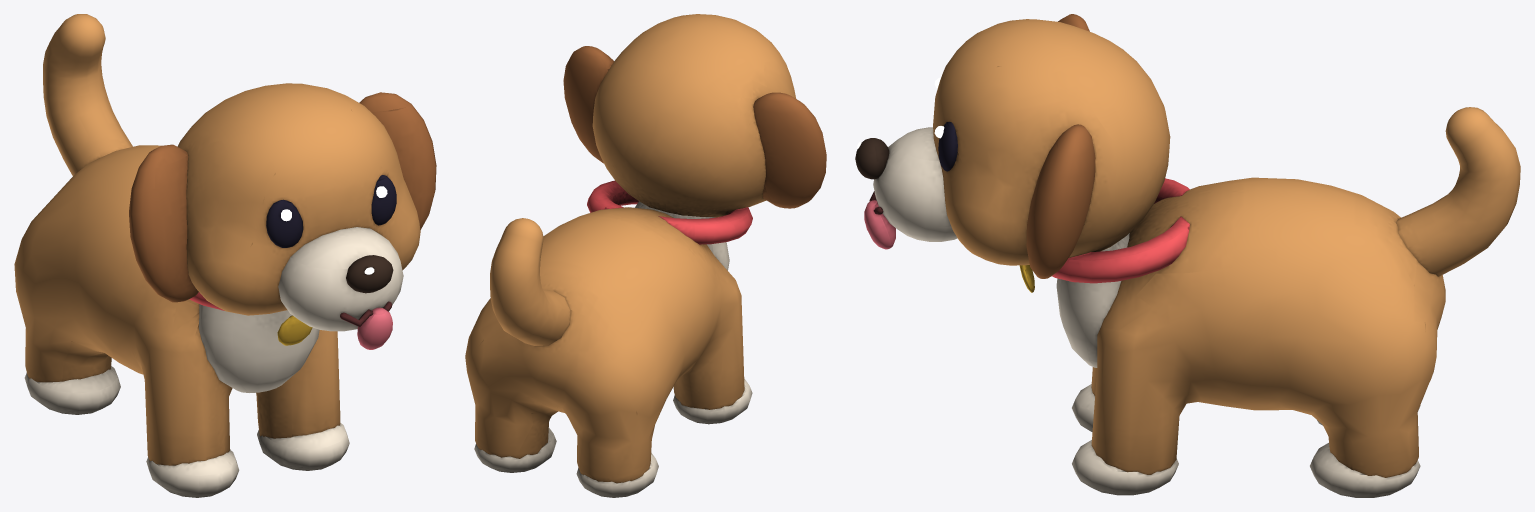
Rendered from pet_dog.glb.
The picture shows the model from 3 angles, left to right: view 1: azimuth 30°, elevation 25°; view 2: azimuth 150°, elevation 25°; view 3: azimuth 270°, elevation 25°; orthographic projection. The views are drawn at different scales.
Visible parts, largest first — view 1: Head, pet_dog, Tail; view 2: pet_dog, Head, Tail; view 3: pet_dog, Head, Tail.
Part boxes in pixels (box(x1,y1,x2,y2)): Head: box(129, 83, 436, 349); pet_dog: box(14, 145, 349, 497); Tail: box(43, 14, 132, 175); pet_dog: box(465, 180, 752, 497); Head: box(563, 14, 826, 217); Tail: box(490, 218, 570, 345); pet_dog: box(1019, 177, 1445, 497); Head: box(855, 14, 1170, 278); Tail: box(1396, 107, 1520, 276).
Bounding box in the file's own units: 0.4043 × 0.5301 × 0.744.
10 materials, 9 textured.
